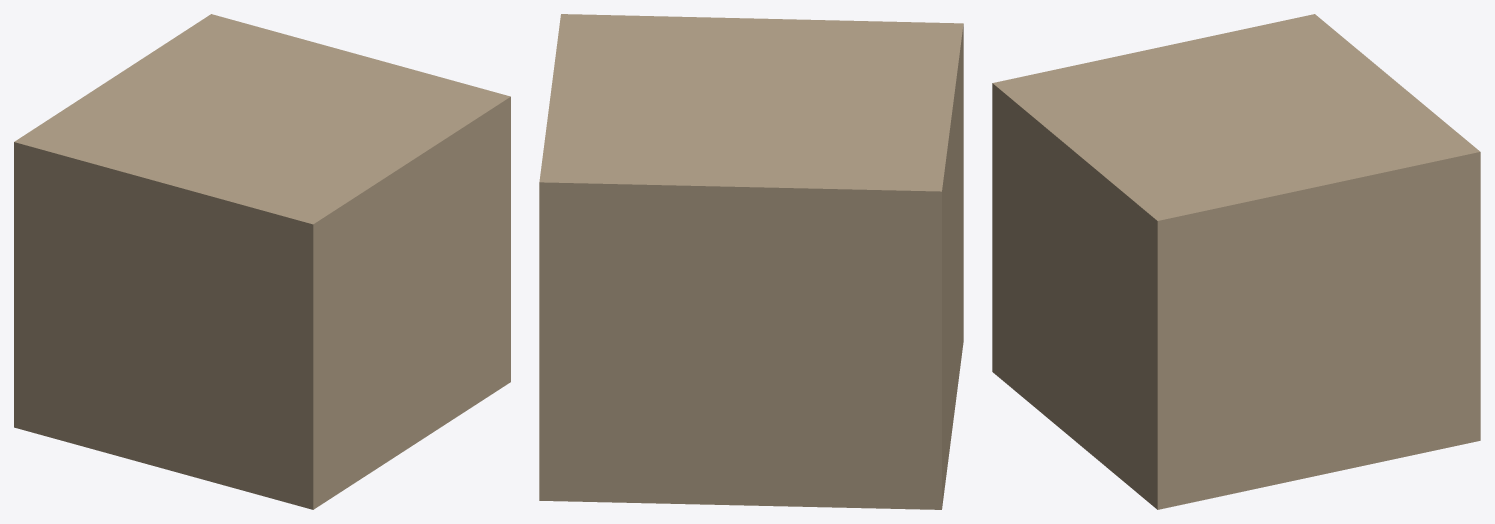
Rendered from bld_106796838.dae.
3 renders of one model, left to right at view 1: azimuth 30°, elevation 25°; view 2: azimuth 150°, elevation 25°; view 3: azimuth 270°, elevation 25°, orthographic. The views are drawn at different scales.
Parts seen in each view (by area): view 1: bld_106796838; view 2: bld_106796838; view 3: bld_106796838.
Boxes of the visible parts, left/top/right/bottom form: bld_106796838: left=14, top=14, right=510, bottom=509; bld_106796838: left=539, top=14, right=963, bottom=509; bld_106796838: left=992, top=14, right=1480, bottom=509.
Size of the model in its own units: 12.29 by 12.25 by 8.
